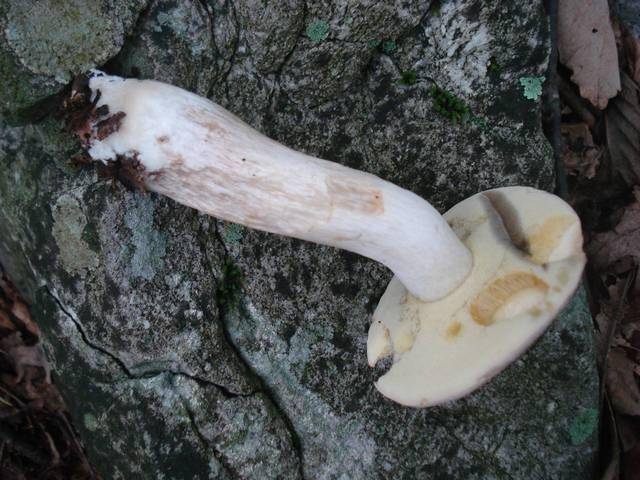edible_mushroom: (66, 67, 594, 424)
